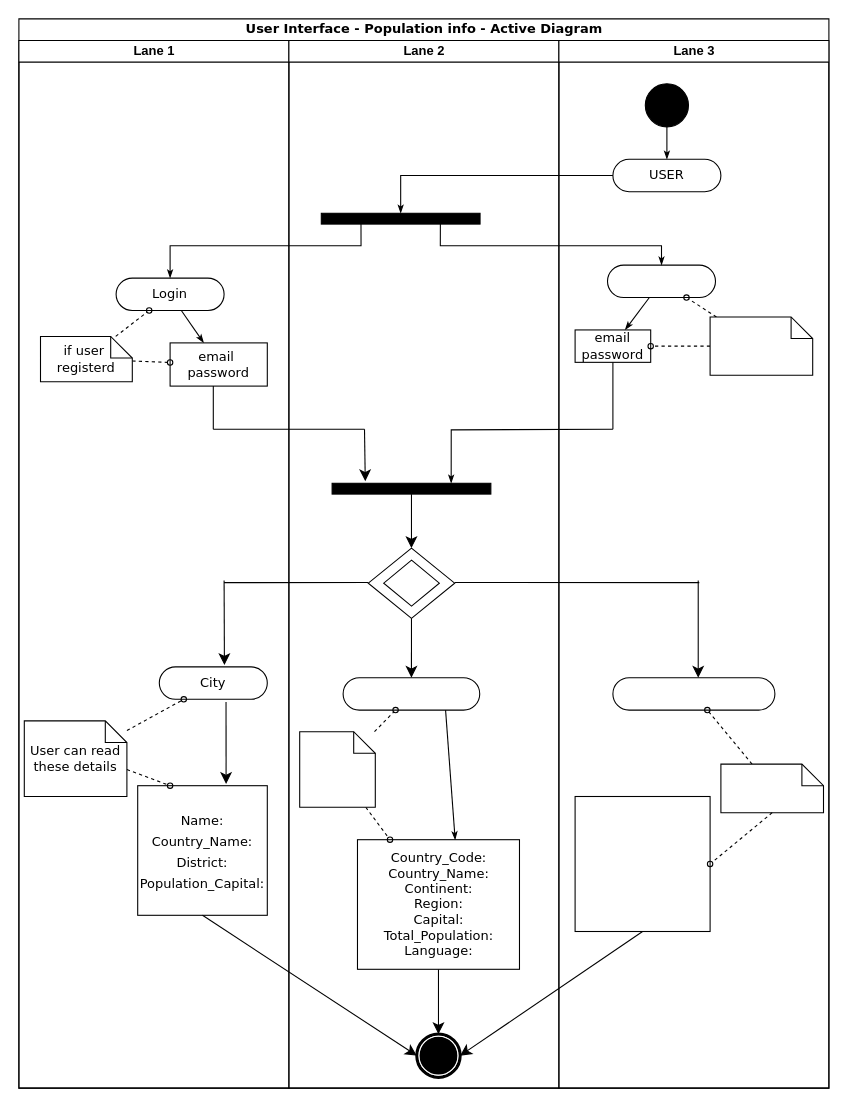
Image size: 848x1107. Some labels were removed from this diagram. The centre of each missing label's shape, as x and y in pixels:
CAPITAL CITY: point (693, 693)
COUNTRY: point (411, 693)
if user not registard: point (761, 345)
Name: Country: Population:: point (642, 863)
Sign up: point (661, 281)
User can read: point (772, 788)
when user click on country bar: point (337, 769)
